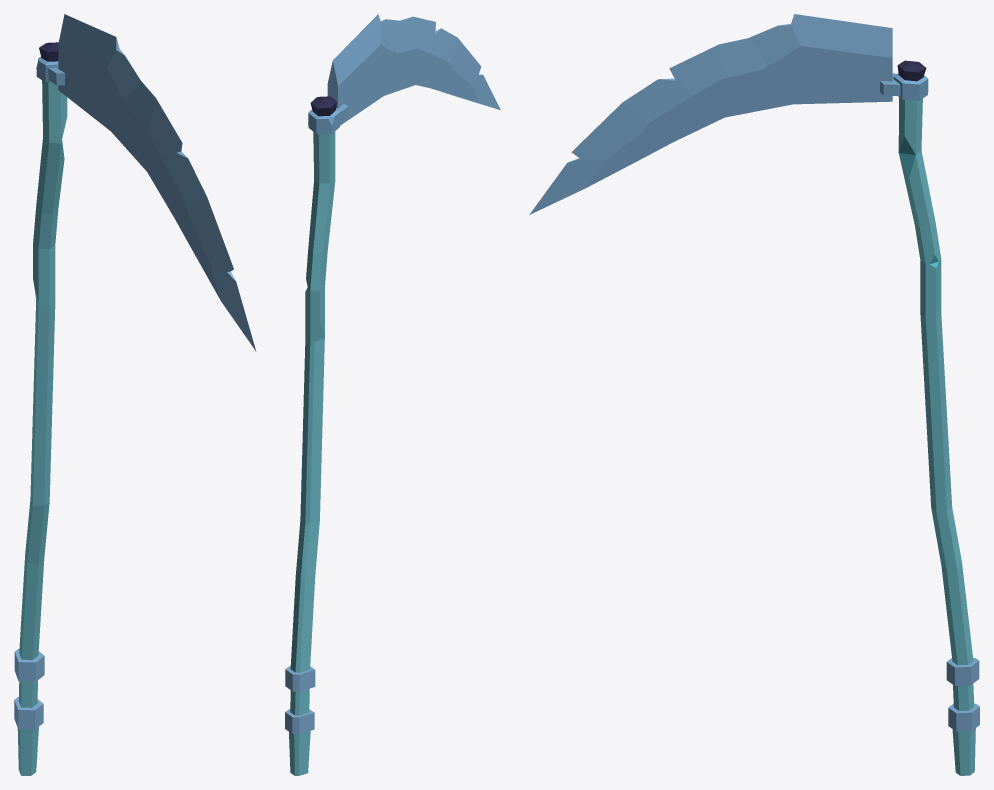
The model's file is Scythe.fbx.
3 renders of one model, left to right at view 1: azimuth 30°, elevation 25°; view 2: azimuth 150°, elevation 25°; view 3: azimuth 270°, elevation 25°, orthographic. The views are drawn at different scales.
Visible parts, largest first — view 1: Scythe; view 2: Scythe; view 3: Scythe.
Part boxes in pixels (x1=…): Scythe: x1=14, y1=14, x2=256, y2=775; Scythe: x1=285, y1=14, x2=500, y2=775; Scythe: x1=529, y1=14, x2=979, y2=775.
Size of the model in its own units: 7.06 by 195 by 105.
